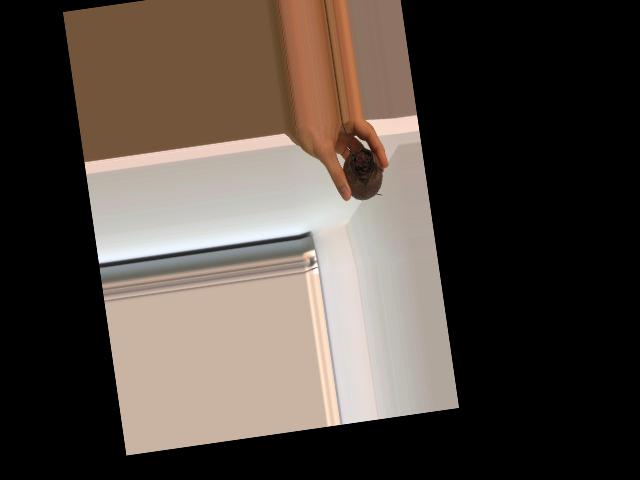beet: (335, 116, 387, 203)
